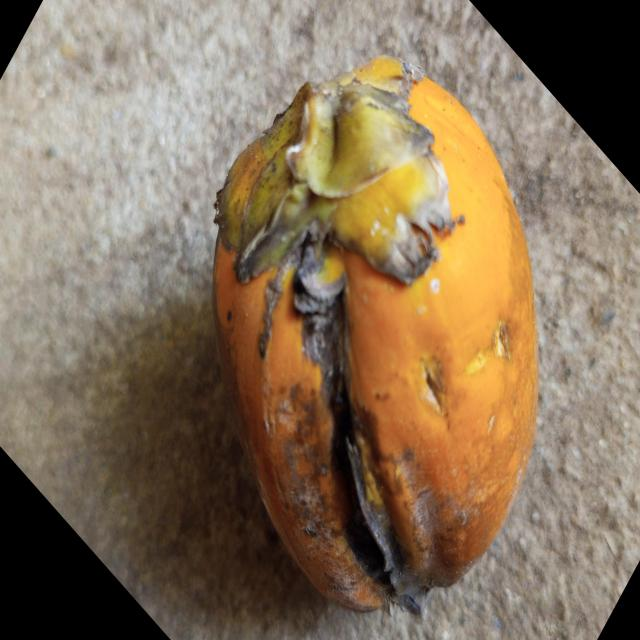damaged: (214, 57, 538, 613)
